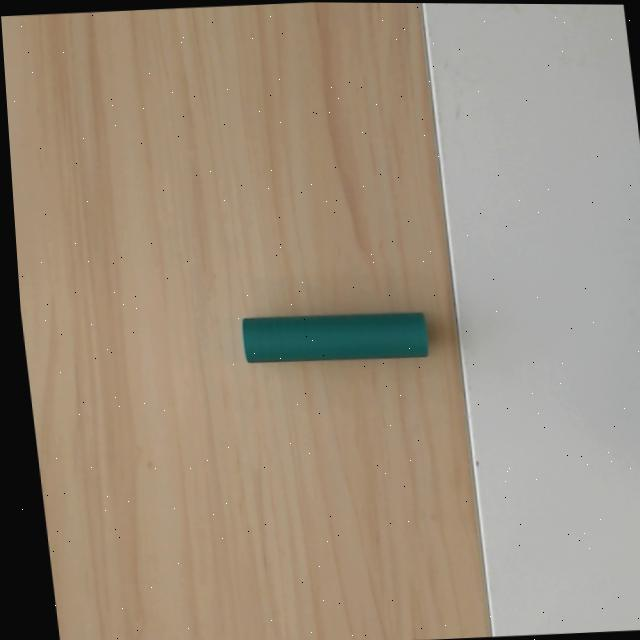Silinder-Hijau-10025: (242, 312, 427, 363)
